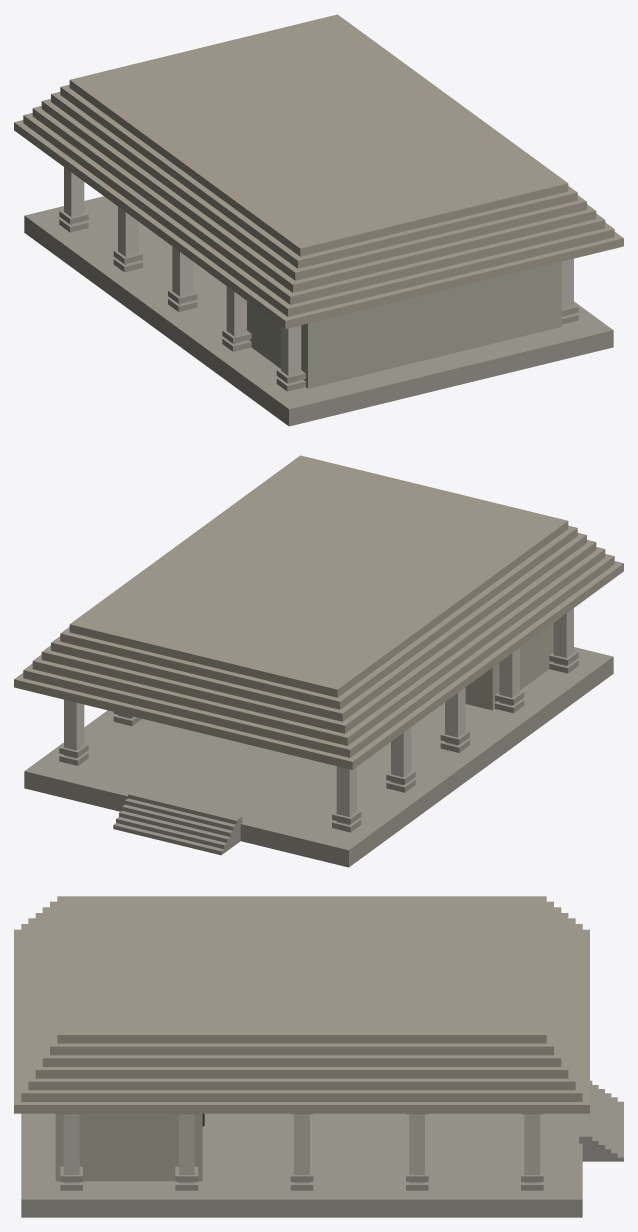
Rendered from temple_hall.glb.
The picture shows the model from 3 angles, top to bottom: view 1: azimuth 30°, elevation 25°; view 2: azimuth 150°, elevation 25°; view 3: azimuth 270°, elevation 25°; orthographic projection. The views are drawn at different scales.
Parts seen in each view (by area): view 1: temple_hall; view 2: temple_hall; view 3: temple_hall.
Part boxes in pixels (<box>): temple_hall: <box>14,14,623,426</box>; temple_hall: <box>14,455,623,867</box>; temple_hall: <box>14,896,623,1217</box>.
Size of the model in its own units: 14.4 by 6.45 by 21.18.
